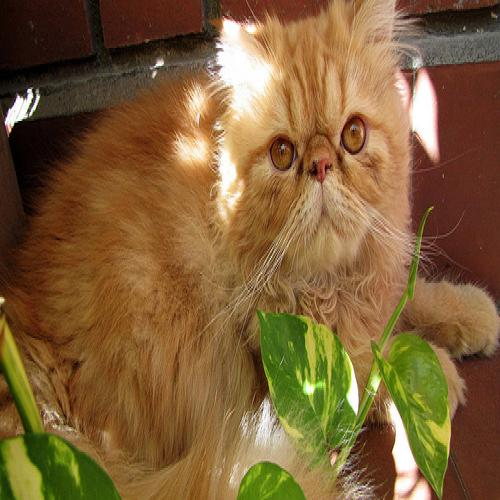persian: (200, 1, 420, 302)
